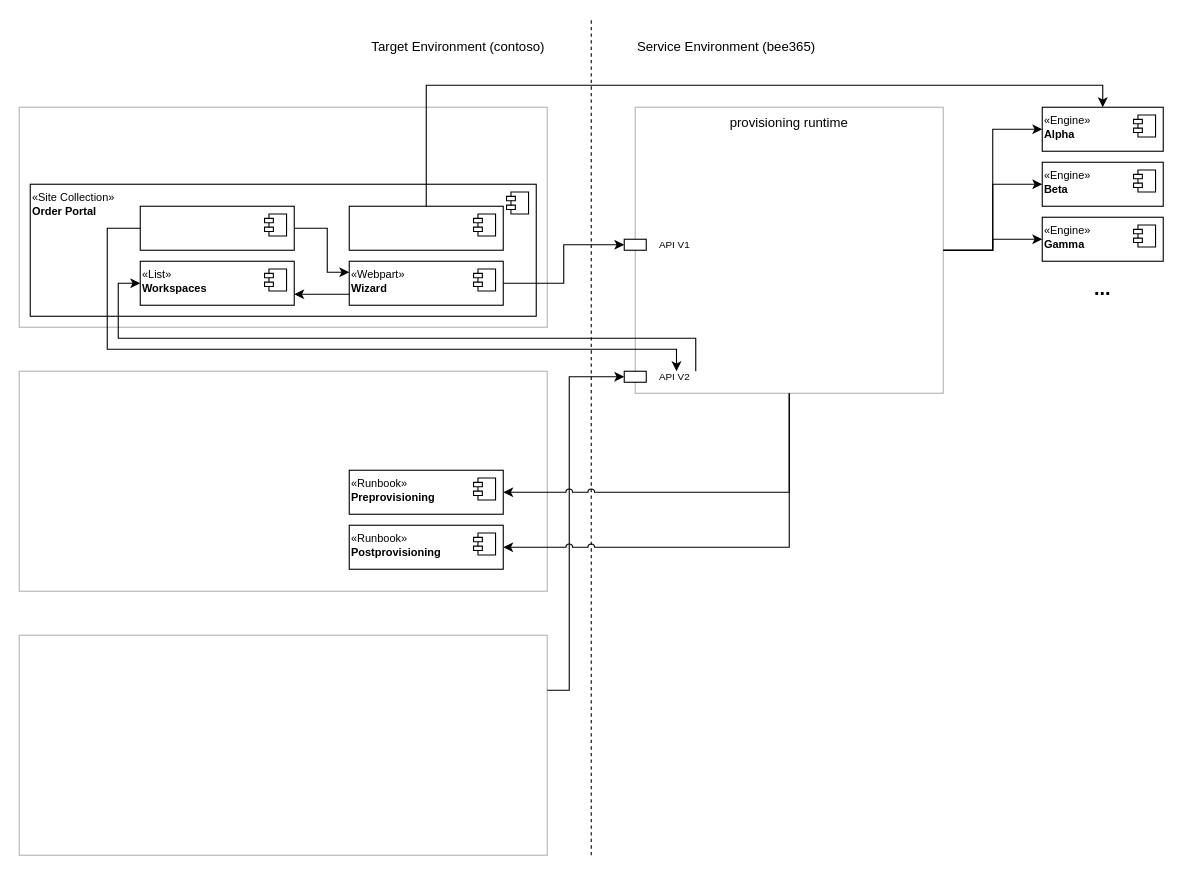
The diagram is 1183 pixels wide and 876 high, and some of its shapes have lost their labels. Each missing label, with the box of its shape:
Contoso Automation Platform: (18, 634, 547, 855)
contoso.sharepoint.com: (18, 106, 547, 327)
portal.azure.com: (18, 370, 547, 591)
«Document Library» Workspace Resources: (348, 205, 503, 250)
«List» WorkspaceTemplates: (139, 205, 294, 250)
